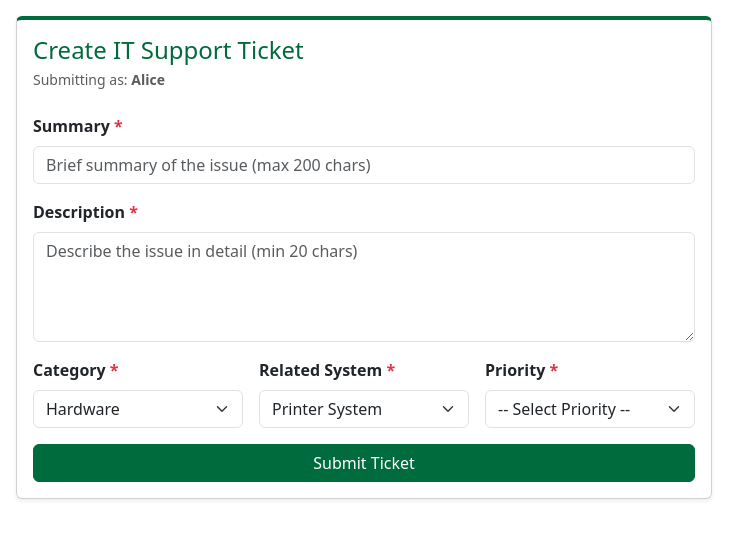
Test: CreateTicket Component › should show description too short error
Expected: the dropdown with test id "select-category" is enabled, [33,390,243,428]
Type "My printer broke" into the field with test id "input-summary".
click(364, 165); type("My printer broke")  # box [33,146,695,184]
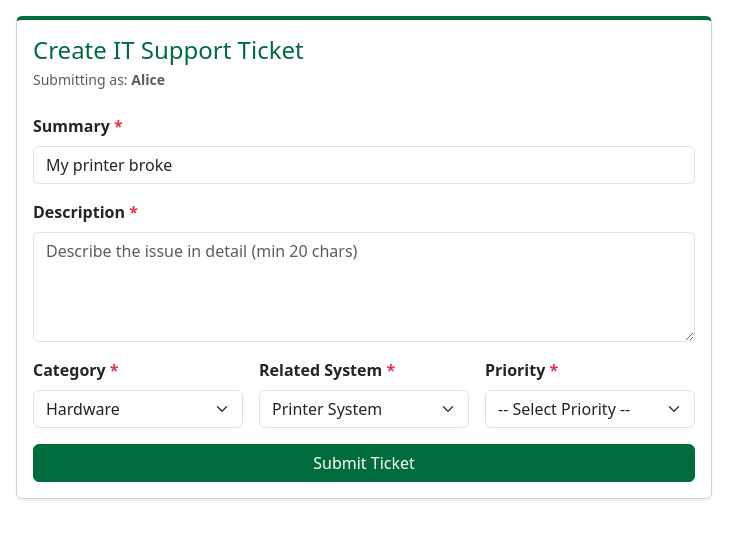
Type "Too short" into the text box with test id "input-description".
click(364, 287); type("Too short")  # box [33,232,695,342]
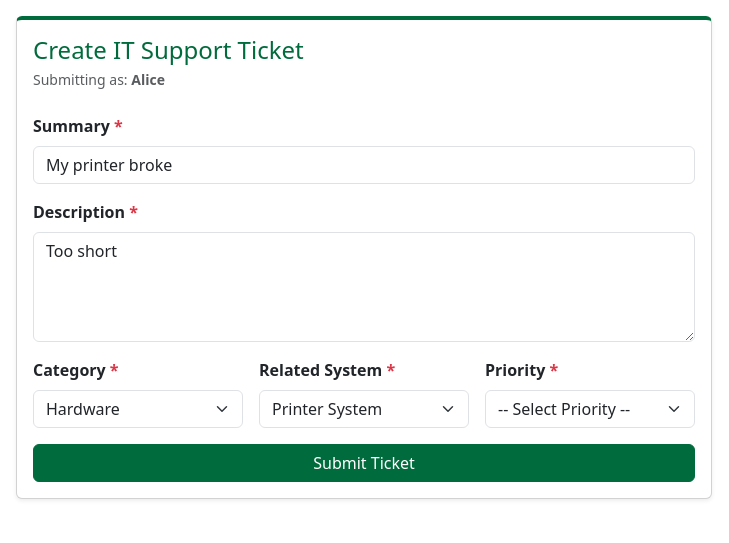
Select "High" in the dropdown with test id "select-priority" at point(590, 409), box [485,390,695,428]
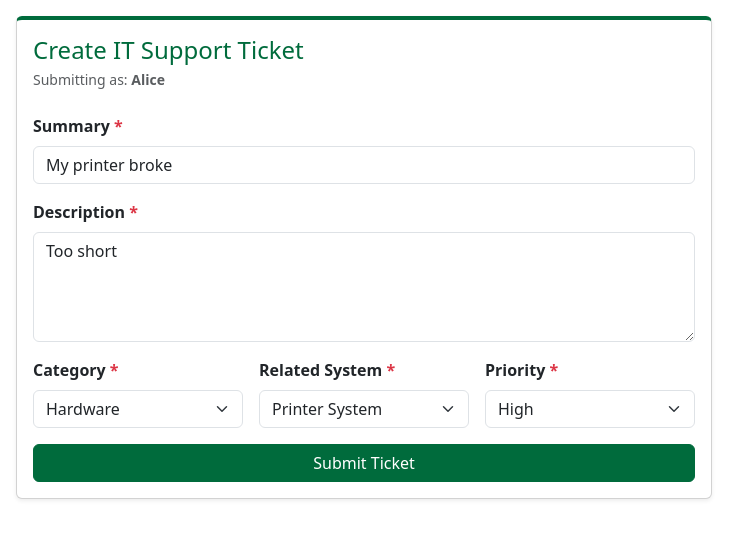
Click the button with test id "submit-btn".
click(364, 463)  # box [33,444,695,482]
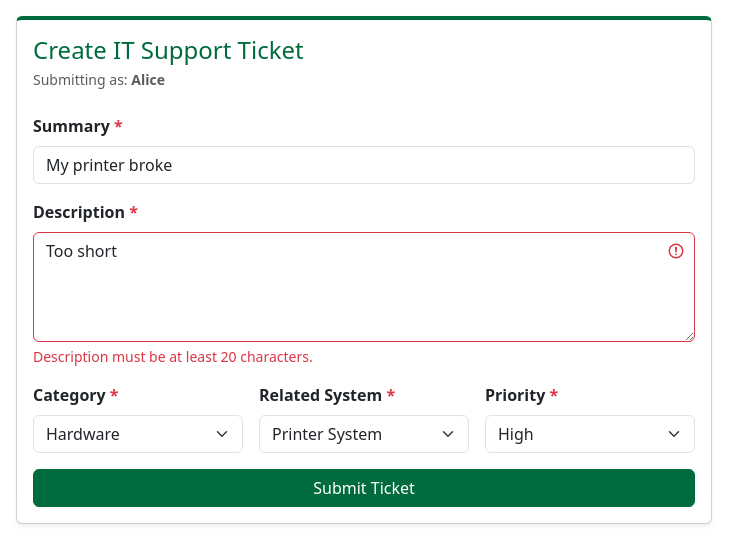
Result: the text "Description must be at least 20 characters." is shown at [33,347,313,366]
